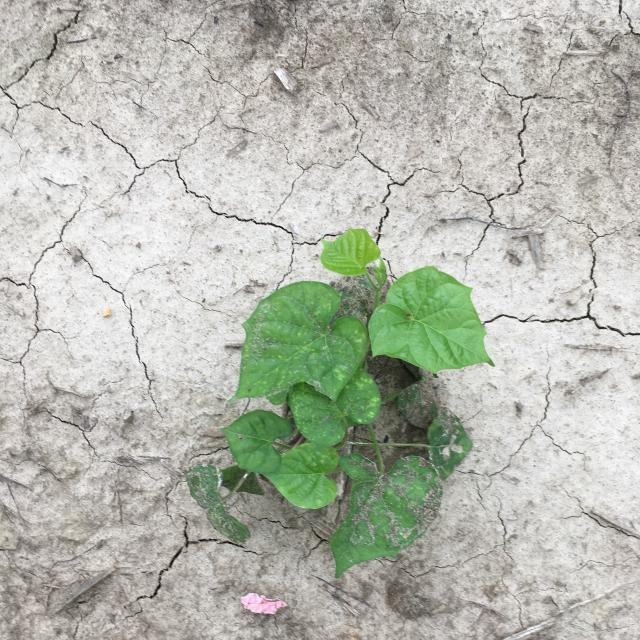MorningGlory: (185, 227, 495, 578)
